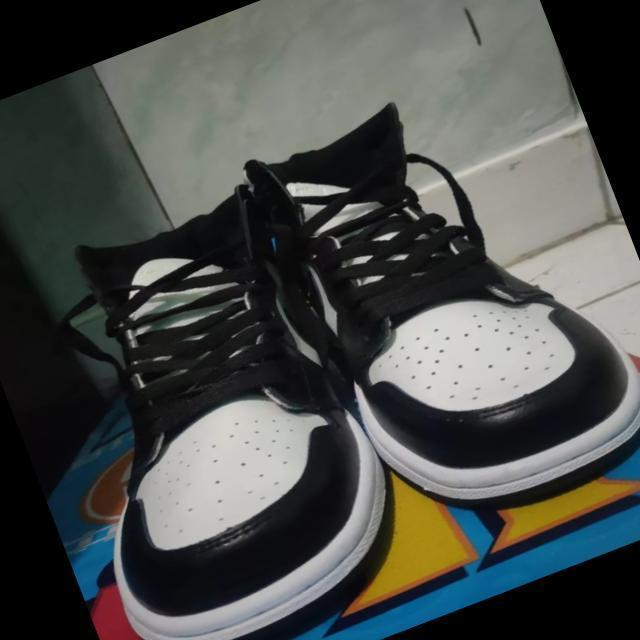nike fake jordan 1: (0, 160, 443, 640), (237, 46, 640, 559)
